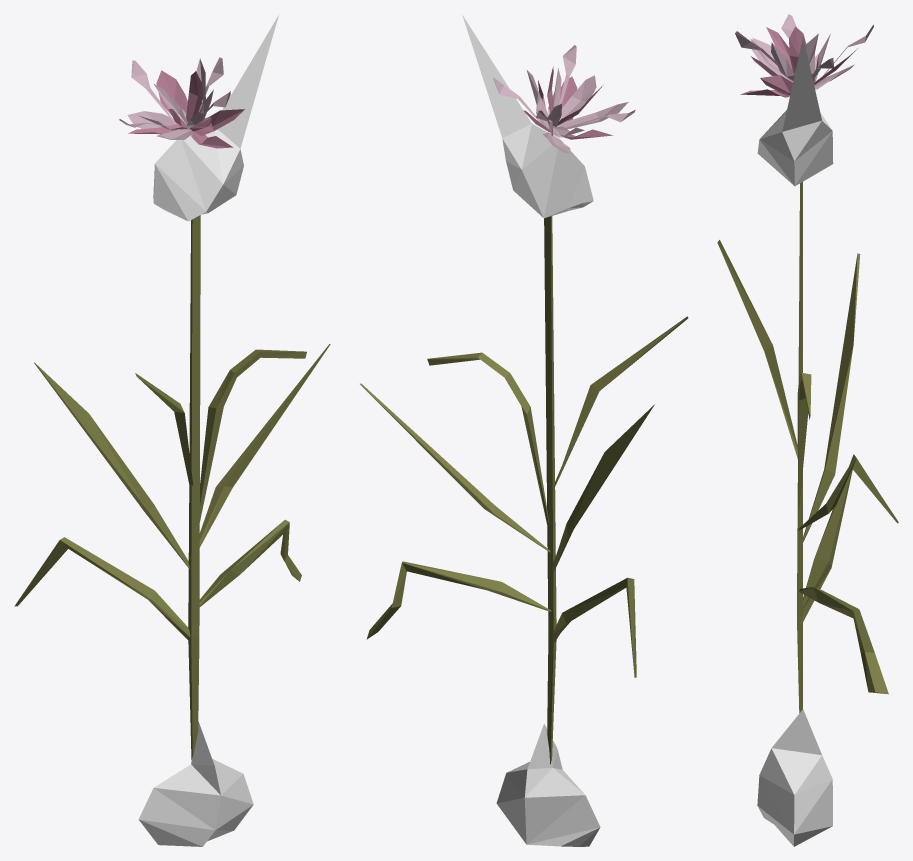
File: Garlic_5.fbx
The picture shows the model from 3 angles, left to right: view 1: azimuth 30°, elevation 25°; view 2: azimuth 150°, elevation 25°; view 3: azimuth 270°, elevation 25°; orthographic projection. The views are drawn at different scales.
Parts seen in each view (by area): view 1: Garlic_5; view 2: Garlic_5; view 3: Garlic_5.
Boxes of the visible parts, bbox=[...] form: Garlic_5: bbox=[14, 15, 330, 846]; Garlic_5: bbox=[360, 15, 688, 846]; Garlic_5: bbox=[717, 14, 898, 846].
Size of the model in its own units: 33.56 by 87.15 by 17.07.
